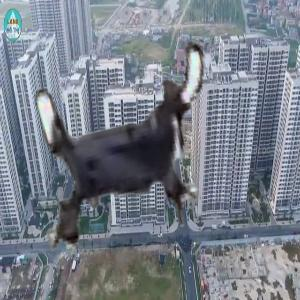drone: (16, 39, 236, 259)
